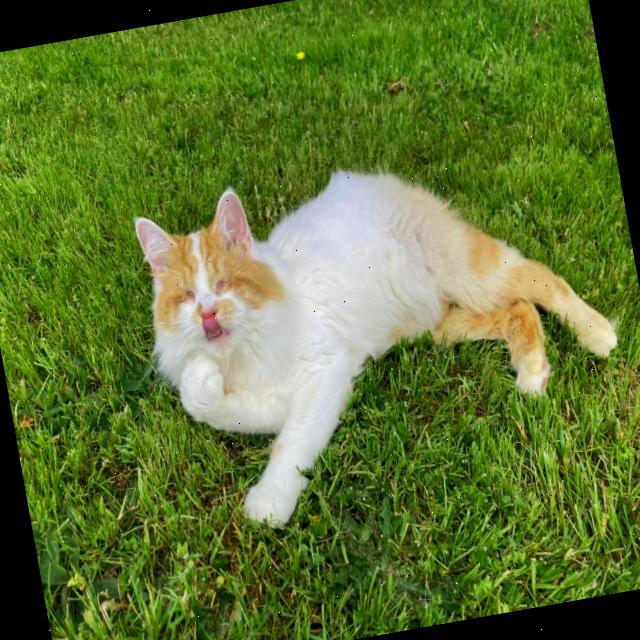manx_cat: (112, 162, 306, 386)
